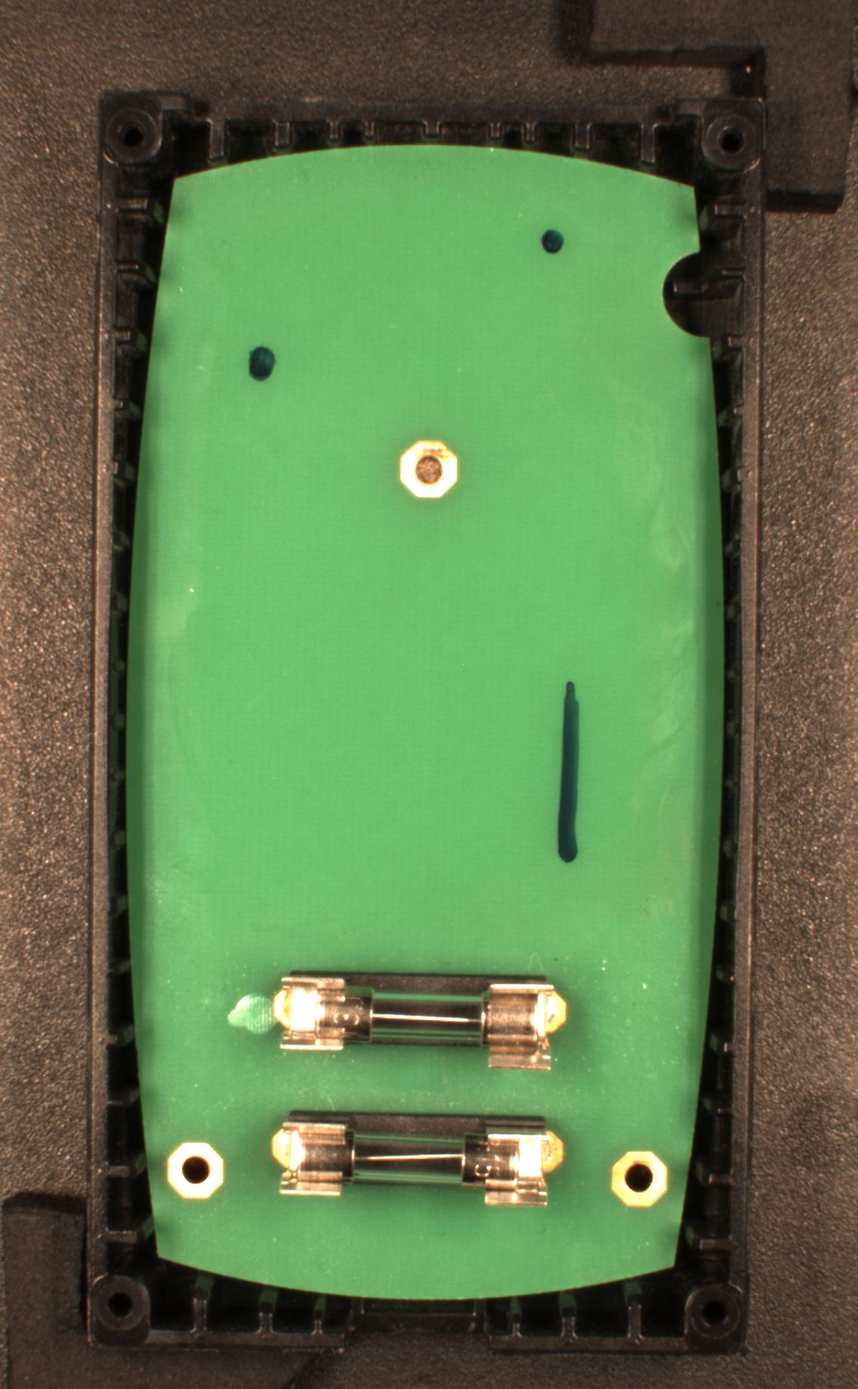Linijsko Ostecene: (550, 678, 584, 869)
Tockasto Ostecenje: (241, 340, 282, 389), (539, 225, 566, 257)
